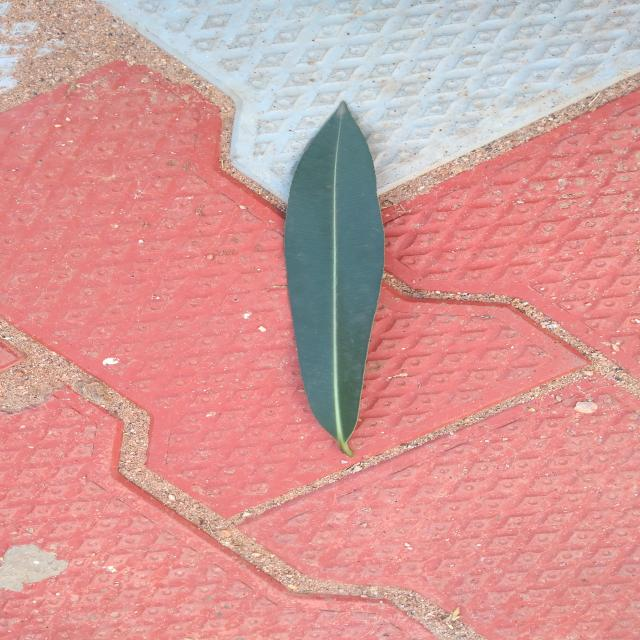ganigale: (284, 102, 384, 456)
